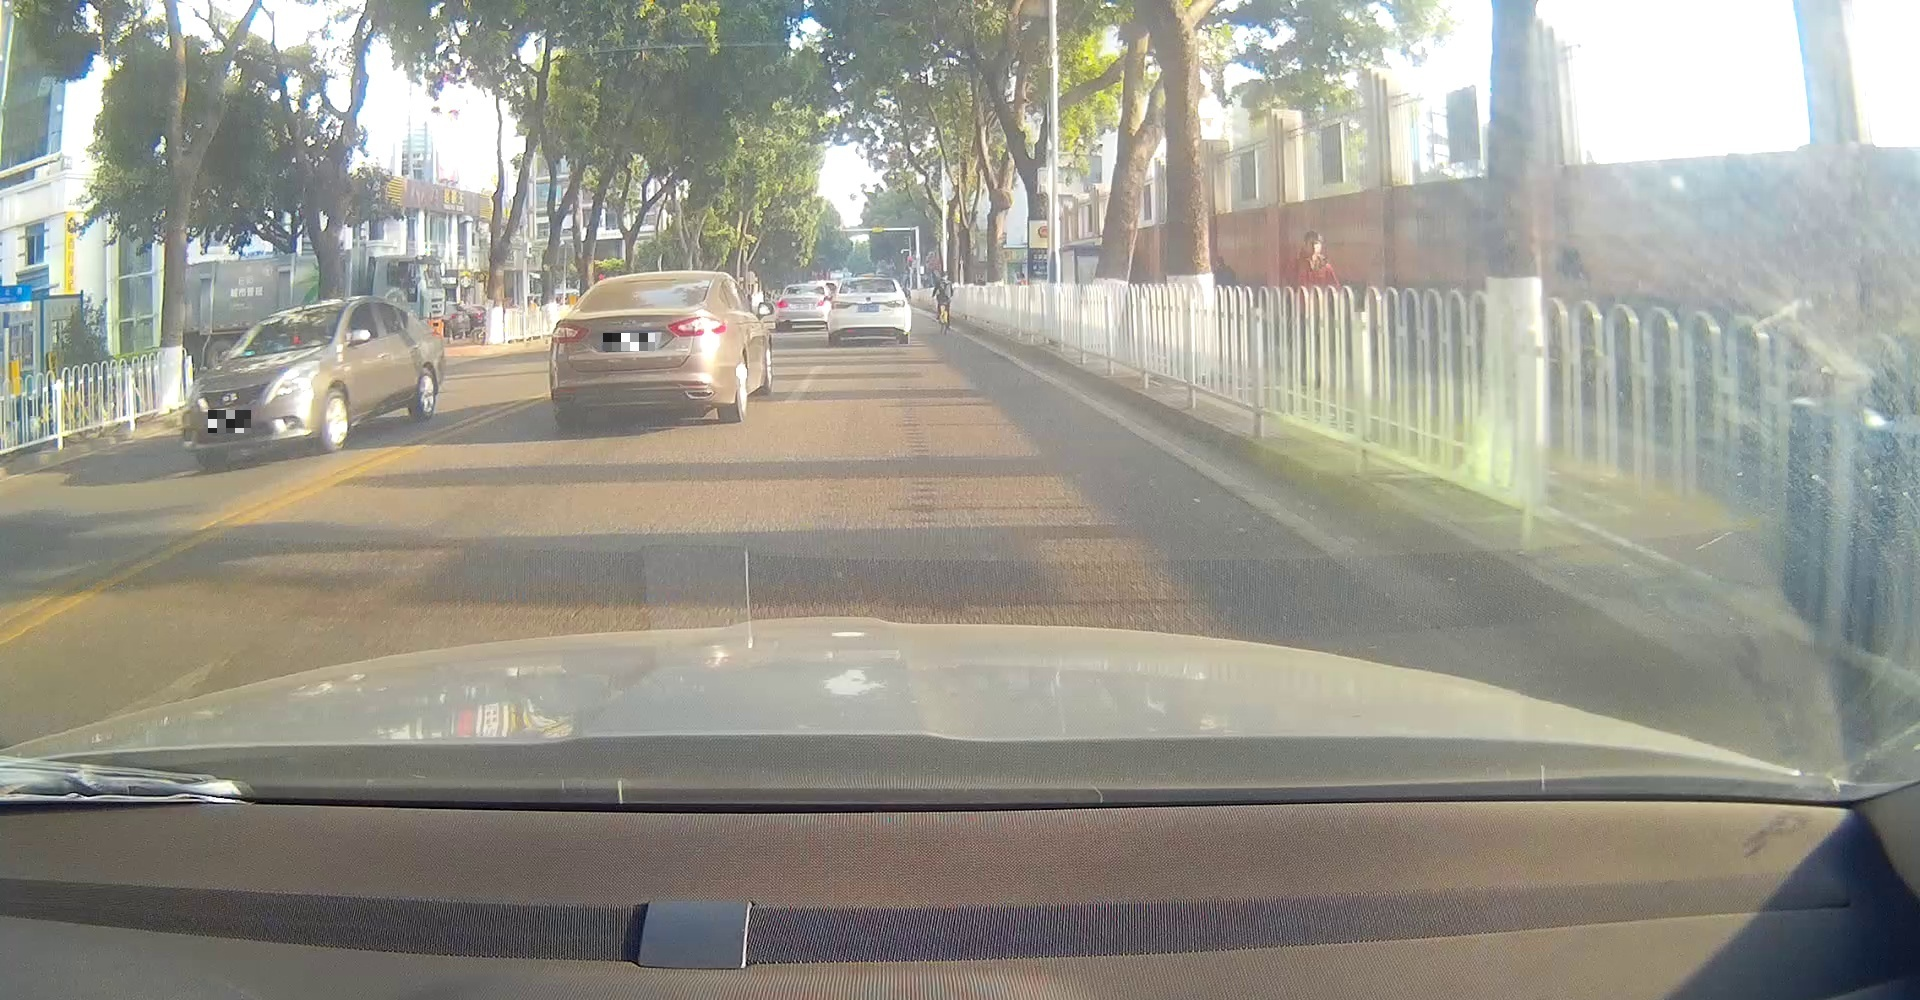L_light: (551, 322, 590, 343), (830, 301, 855, 310), (776, 299, 789, 308)
R_light: (667, 316, 728, 338), (881, 299, 905, 308), (817, 299, 824, 307)
T_light: (623, 279, 677, 283), (862, 279, 875, 280), (800, 286, 809, 287)
day-no: (549, 270, 735, 426), (828, 277, 912, 346), (776, 283, 828, 332)
plate_1: (208, 410, 251, 433)
plate_2: (603, 332, 655, 352)
